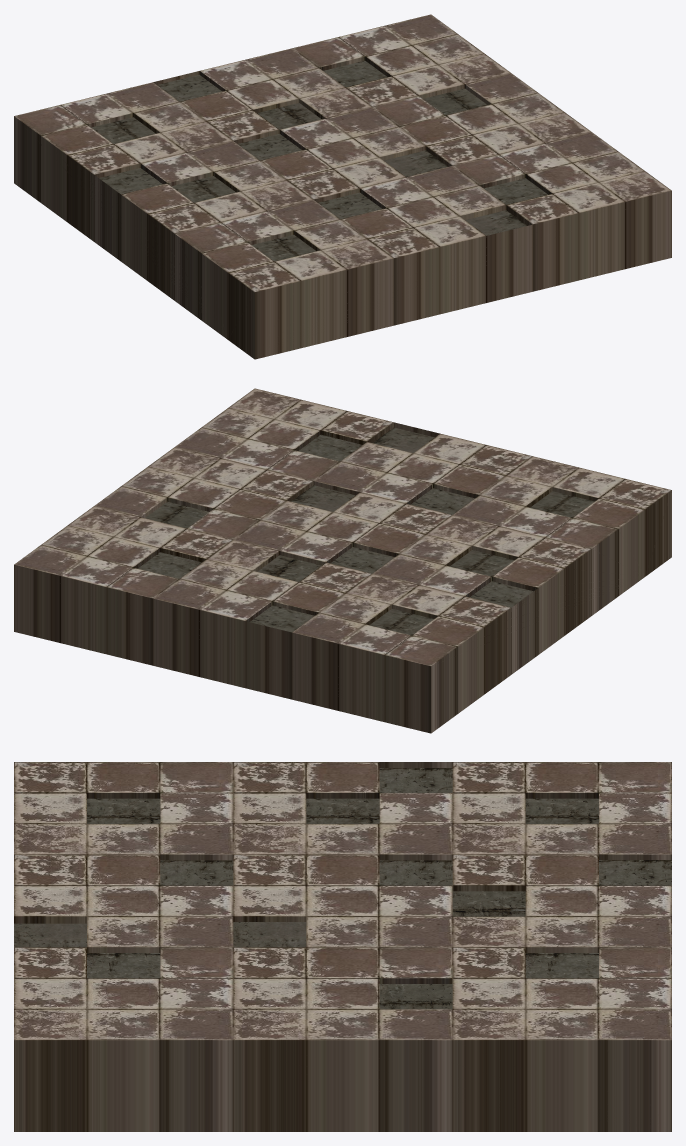
The model's file is OfficeFloor2.fbx.
3 views of the same model, one above another, from view 1: azimuth 30°, elevation 25°; view 2: azimuth 150°, elevation 25°; view 3: azimuth 270°, elevation 25° (orthographic). The views are drawn at different scales.
Parts seen in each view (by area): view 1: Cube.012; view 2: Cube.012; view 3: Cube.012.
Boxes of the visible parts, left/top/right/bottom form: Cube.012: left=14, top=14, right=671, bottom=359; Cube.012: left=14, top=388, right=671, bottom=733; Cube.012: left=14, top=762, right=671, bottom=1131.
Bounding box in the file's own units: 650 × 100 × 650.
